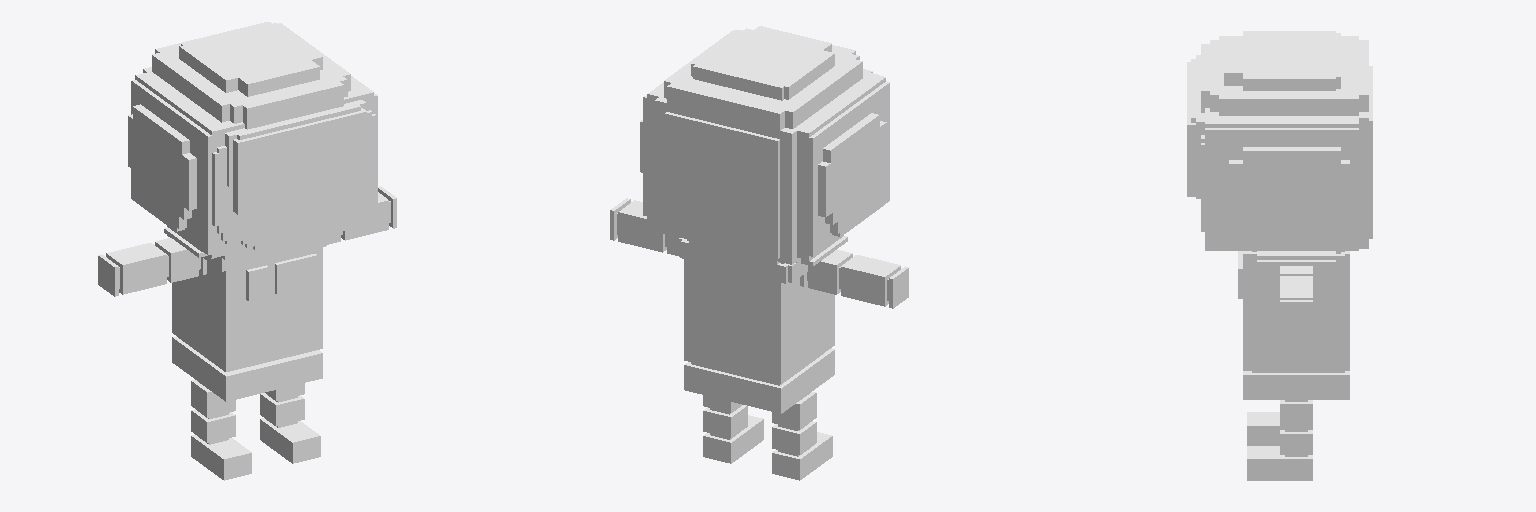
Rendered from ConTraje2.obj.
The picture shows the model from 3 angles: view 1: azimuth 30°, elevation 25°; view 2: azimuth 150°, elevation 25°; view 3: azimuth 270°, elevation 25°; orthographic projection.
Parts seen in each view (by area): view 1: object 1; view 2: object 1; view 3: object 1.
Part boxes in pixels (bbox=[...]): object 1: bbox=[98, 22, 396, 480]; object 1: bbox=[610, 26, 908, 480]; object 1: bbox=[1187, 31, 1372, 480].
Size of the model in its own units: 7 by 9.5 by 4.